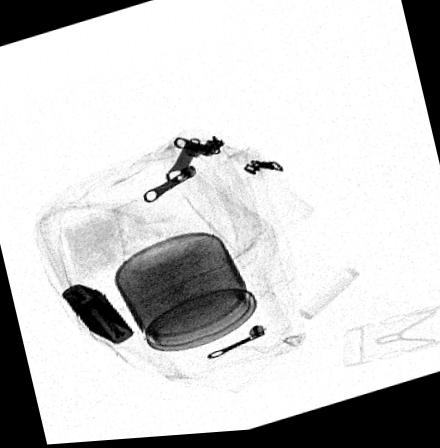Lighter: (60, 284, 133, 346)
